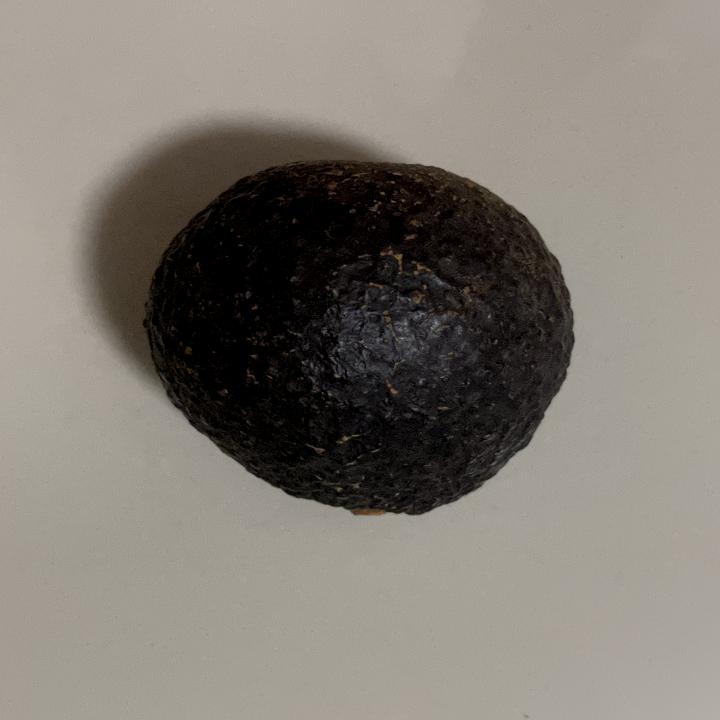Level3: (133, 152, 587, 524)
